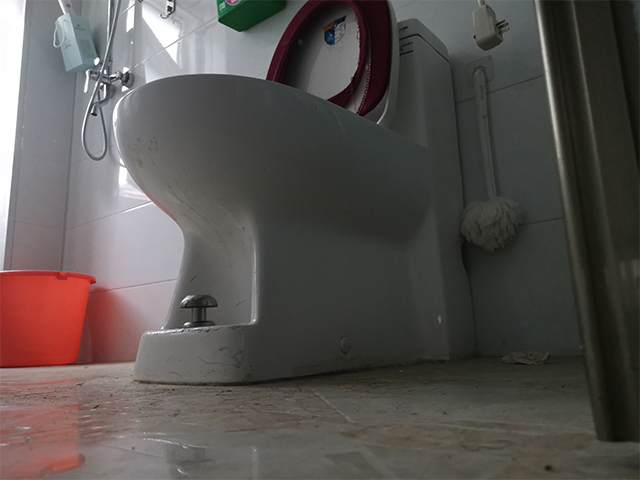closestool: (109, 1, 482, 390)
